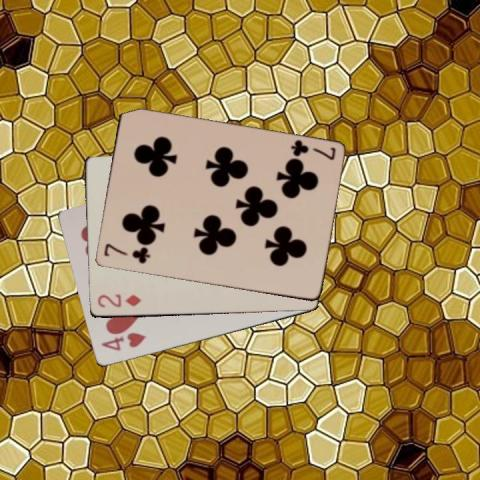2d: (94, 292, 143, 309)
4h: (97, 330, 147, 352)
7c: (287, 137, 337, 162), (101, 241, 151, 265)
